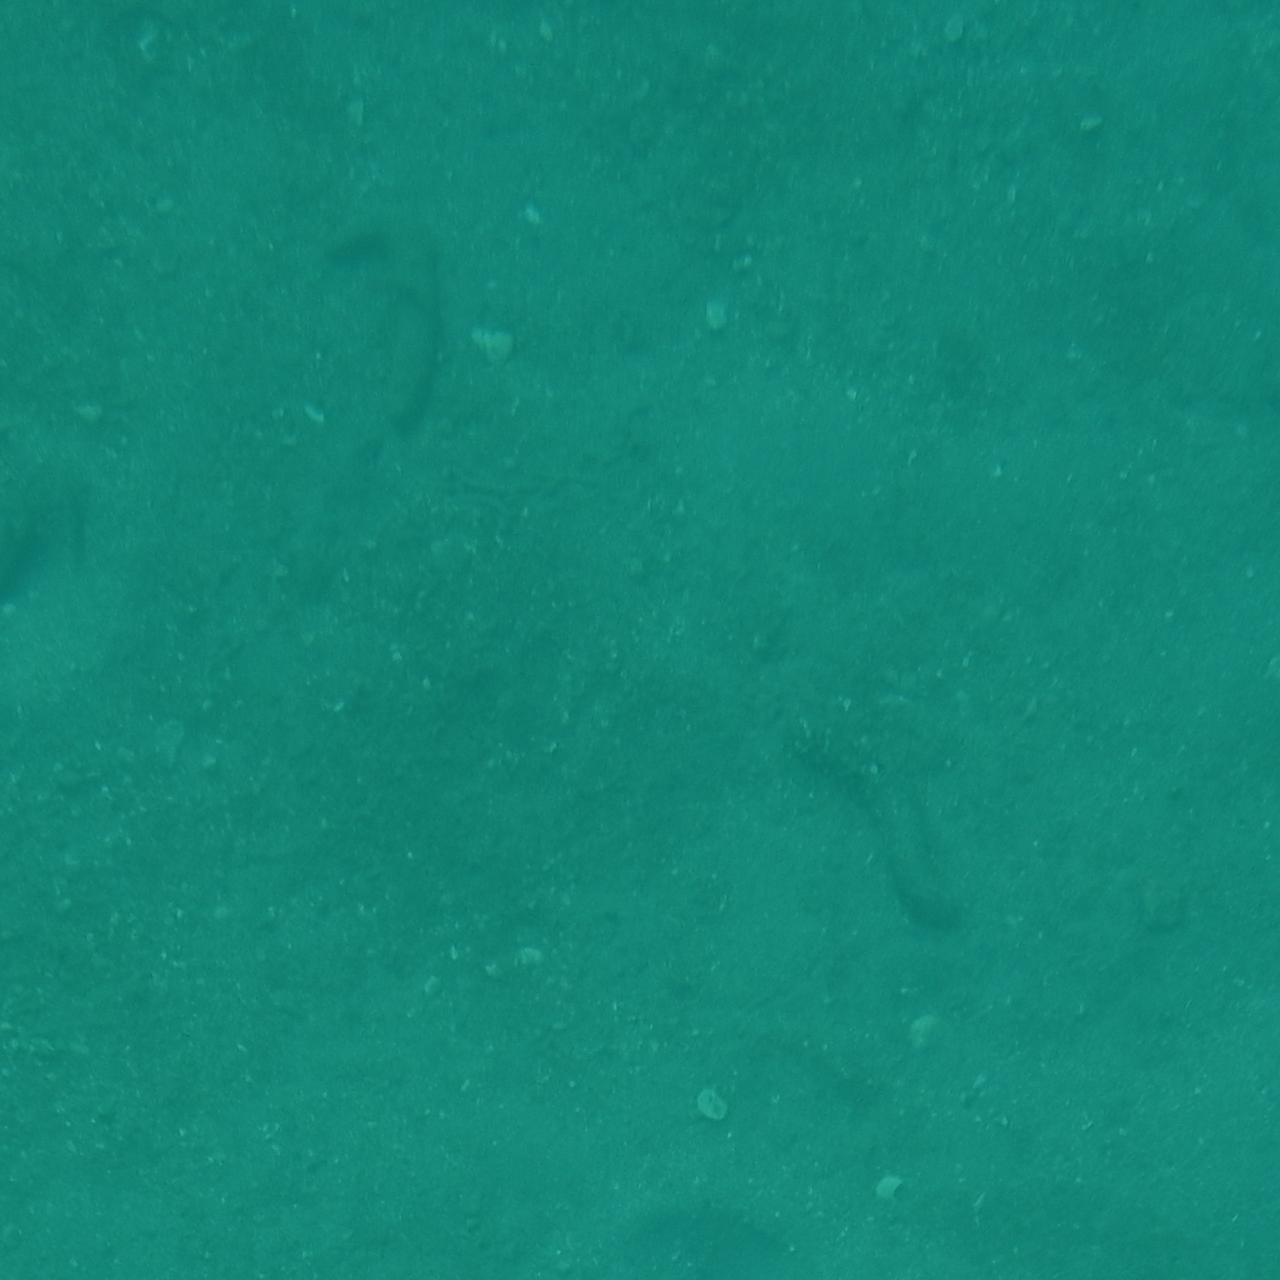Holothuria tubulosa: (787, 715, 971, 975), (336, 190, 468, 476)
